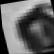correct: (11, 2, 54, 54)
